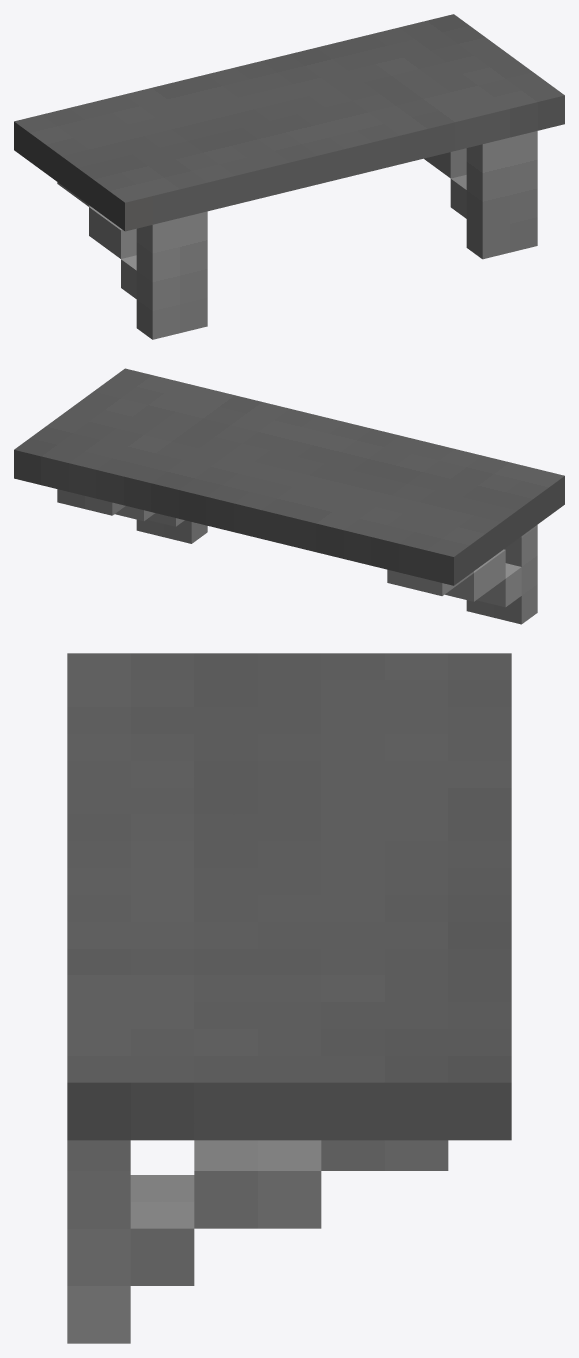
Rendered from shelf.gltf.
3 views of the same model, one above another, from view 1: azimuth 30°, elevation 25°; view 2: azimuth 150°, elevation 25°; view 3: azimuth 270°, elevation 25° (orthographic). The views are drawn at different scales.
Visible parts, largest first — view 1: cube, left (×3), left_3, left_2; view 2: cube, left (×3), left_3, left_2, left_4; view 3: cube, left (×2).
Part boxes in pixels (x1=…): cube: x1=14, y1=14, x2=564, y2=231; left (×3): x1=136, y1=131, x2=537, y2=339; left_3: x1=89, y1=206, x2=136, y2=258; left_2: x1=121, y1=255, x2=136, y2=298; cube: x1=14, y1=368, x2=564, y2=585; left (×3): x1=57, y1=489, x2=537, y2=624; left_3: x1=445, y1=549, x2=505, y2=601; left_2: x1=476, y1=563, x2=521, y2=607; left_4: x1=387, y1=569, x2=473, y2=595; cube: x1=67, y1=653, x2=511, y2=1140; left (×2): x1=67, y1=1140, x2=448, y2=1343.
Bounding box in the file's own units: 1 × 0.3125 × 0.4375.
Materials: 2 (2 with a texture image).
